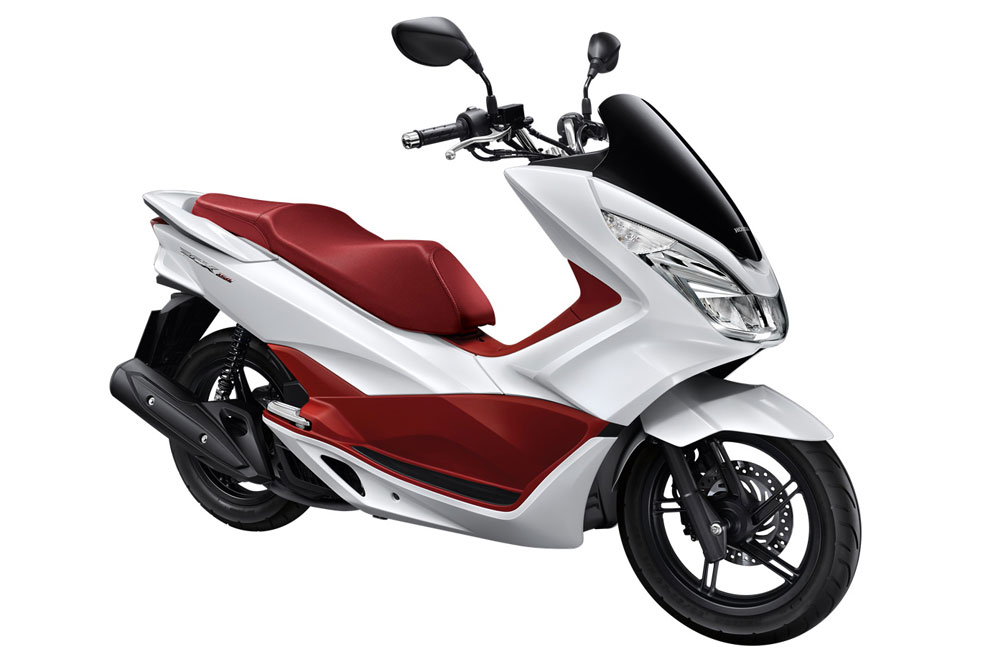motorcycle: (109, 88, 865, 644)
